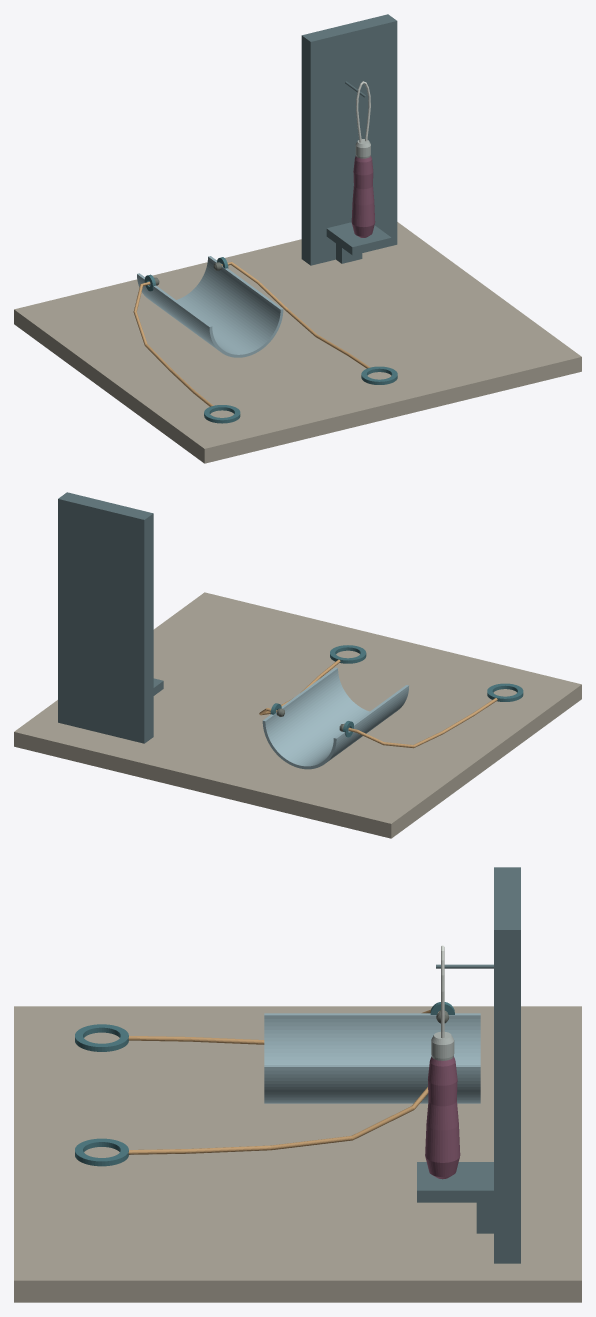
The picture shows the model from 3 angles, top to bottom: view 1: azimuth 30°, elevation 25°; view 2: azimuth 150°, elevation 25°; view 3: azimuth 270°, elevation 25°; orthographic projection. The views are drawn at different scales.
Parts seen in each view (by area): view 1: SCENE_ONLY__FullDeckSidePanelGripLedgeAndPeg, sock__WholeOpenEndedThickHalfCylinderShell, button__WholeRoundedWaistedPalmGrip, sock__WholeRightContinuousPullCord, sock__WholeLeftContinuousPullCord; view 2: SCENE_ONLY__FullDeckSidePanelGripLedgeAndPeg, sock__WholeOpenEndedThickHalfCylinderShell, sock__WholeLeftContinuousPullCord, sock__WholeLeftFlatOpenPullRing, sock__WholeRightFlatOpenPullRing; view 3: SCENE_ONLY__FullDeckSidePanelGripLedgeAndPeg, sock__WholeOpenEndedThickHalfCylinderShell, button__WholeRoundedWaistedPalmGrip, sock__WholeRightContinuousPullCord, sock__WholeRightFlatOpenPullRing, sock__WholeLeftFlatOpenPullRing, sock__WholeLeftContinuousPullCord, button__WholeShortFerrule.
Boxes of the visible parts, x1,y1,x2,y2 form: SCENE_ONLY__FullDeckSidePanelGripLedgeAndPeg: (14, 14, 581, 463); sock__WholeOpenEndedThickHalfCylinderShell: (137, 256, 283, 357); button__WholeRoundedWaistedPalmGrip: (351, 156, 375, 237); sock__WholeRightContinuousPullCord: (221, 262, 370, 368); sock__WholeLeftContinuousPullCord: (133, 281, 213, 406); SCENE_ONLY__FullDeckSidePanelGripLedgeAndPeg: (14, 492, 581, 838); sock__WholeOpenEndedThickHalfCylinderShell: (262, 667, 408, 769); sock__WholeLeftContinuousPullCord: (348, 698, 497, 748); sock__WholeLeftFlatOpenPullRing: (487, 683, 523, 701); sock__WholeRightFlatOpenPullRing: (330, 645, 366, 663); SCENE_ONLY__FullDeckSidePanelGripLedgeAndPeg: (14, 867, 581, 1302); sock__WholeOpenEndedThickHalfCylinderShell: (264, 1013, 480, 1103); button__WholeRoundedWaistedPalmGrip: (425, 1056, 460, 1179); sock__WholeRightContinuousPullCord: (128, 1087, 428, 1154); sock__WholeRightFlatOpenPullRing: (75, 1138, 128, 1166); sock__WholeLeftFlatOpenPullRing: (75, 1024, 128, 1051); sock__WholeLeftContinuousPullCord: (128, 1009, 440, 1044); button__WholeShortFerrule: (431, 1031, 454, 1060).
Size of the model in its own units: 0.48 by 0.29 by 0.42.
